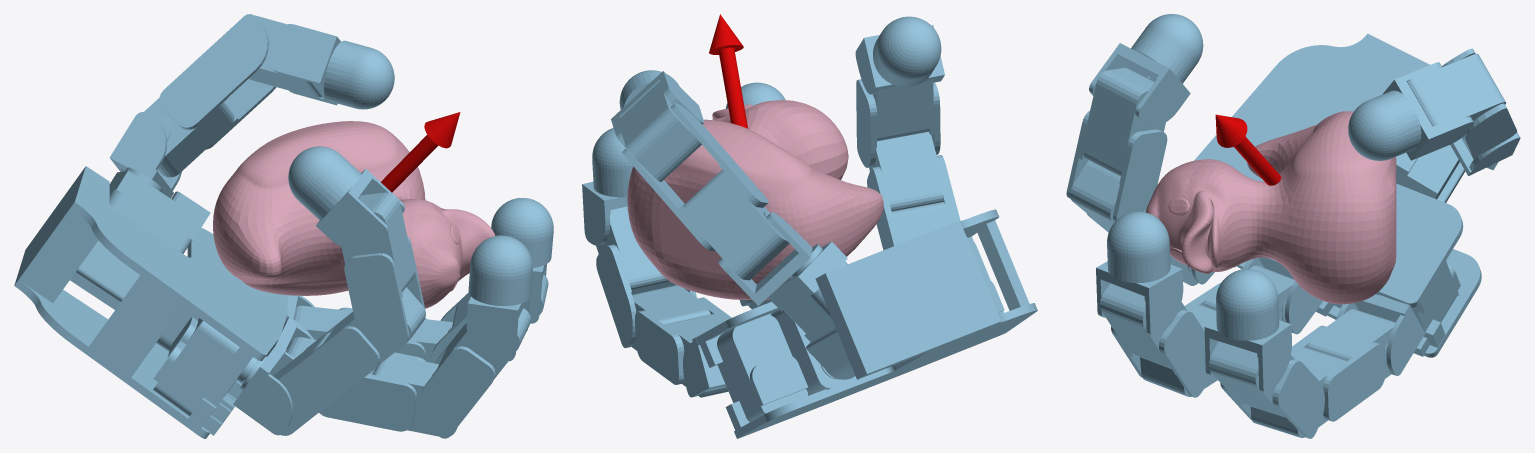
3 views of the same model, side by side, from view 1: azimuth 30°, elevation 25°; view 2: azimuth 150°, elevation 25°; view 3: azimuth 270°, elevation 25° (orthographic). The views are drawn at different scales.
Visible parts, largest first — view 1: world, rubber_duck.stl; view 2: world, rubber_duck.stl; view 3: world, rubber_duck.stl.
Part boxes in pixels (left/top/right/bottom): world: left=14, top=14, right=553, bottom=438; rubber_duck.stl: left=213, top=121, right=495, bottom=308; world: left=582, top=14, right=1037, bottom=438; rubber_duck.stl: left=627, top=100, right=883, bottom=299; world: left=1066, top=14, right=1520, bottom=438; rubber_duck.stl: left=1145, top=111, right=1396, bottom=304.
Size of the model in its own units: 0.2083 by 0.1391 by 0.1736.
